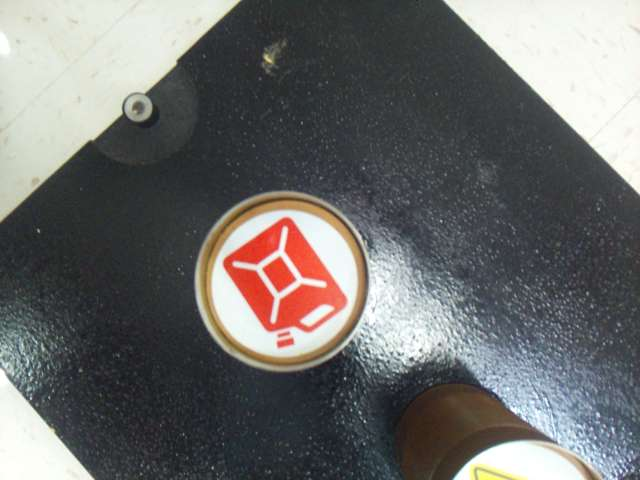gasoline: (216, 210, 351, 353)
toxic_fluid: (466, 461, 523, 478)
